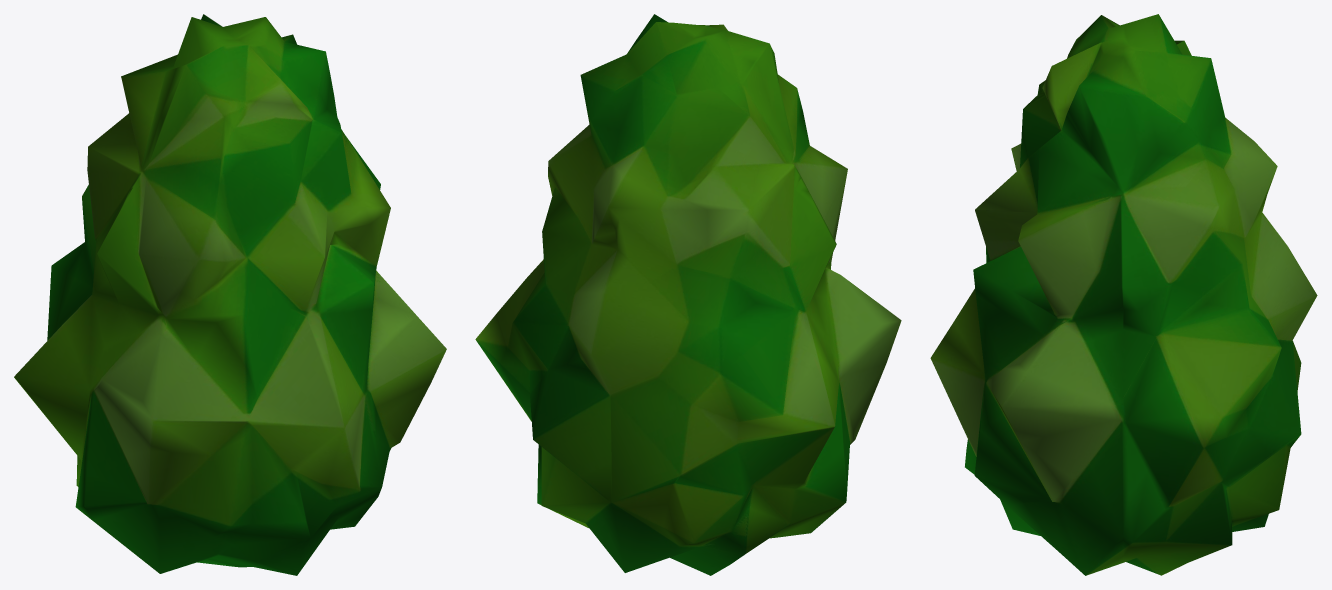
Rendered from abusto2.fbx.
The picture shows the model from 3 angles, left to right: view 1: azimuth 30°, elevation 25°; view 2: azimuth 150°, elevation 25°; view 3: azimuth 270°, elevation 25°; orthographic projection. The views are drawn at different scales.
Visible parts, largest first — view 1: tripo_node_e3caea73; view 2: tripo_node_e3caea73; view 3: tripo_node_e3caea73.
Part boxes in pixels (x1,y1,x2,y2): tripo_node_e3caea73: [14, 14, 446, 575]; tripo_node_e3caea73: [475, 14, 901, 575]; tripo_node_e3caea73: [930, 14, 1317, 575].
Bounding box in the file's own units: 0.7029 × 1 × 0.6596.
Materials: 1 (1 with a texture image).
